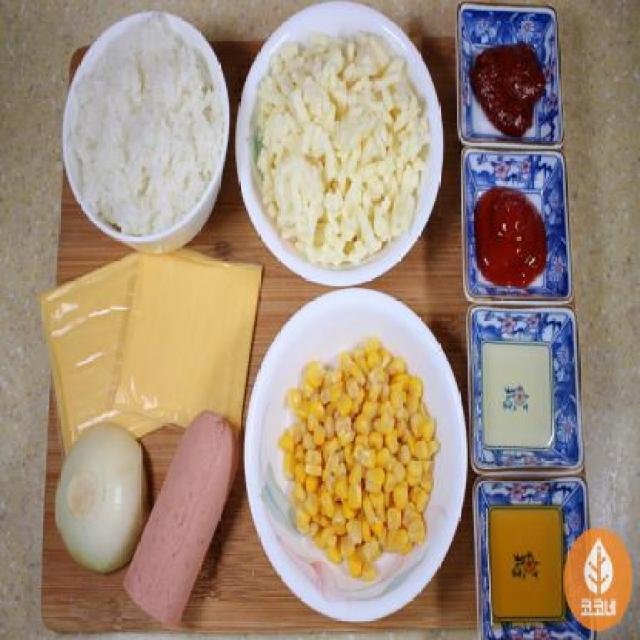cheese: (32, 262, 256, 418)
corn: (276, 332, 444, 576)
ham: (127, 414, 246, 620)
mozzarella cheese: (252, 40, 430, 259)
onion: (40, 426, 146, 575)
rice: (68, 23, 228, 239)
